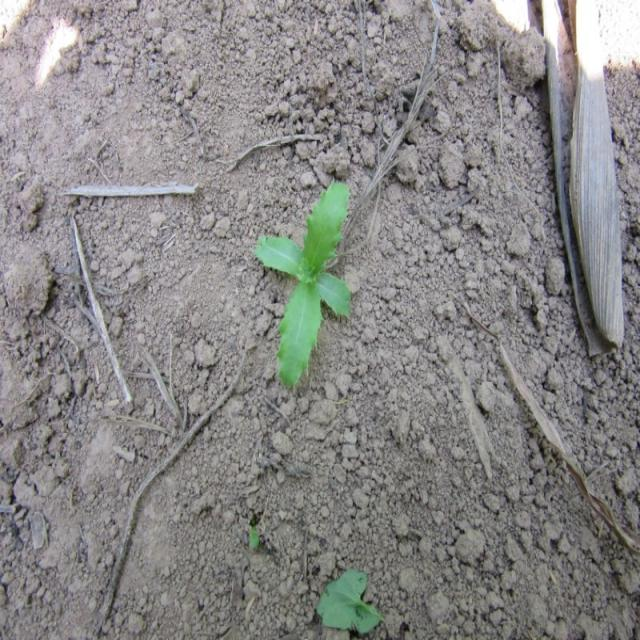field_thistle: (249, 175, 370, 414)
